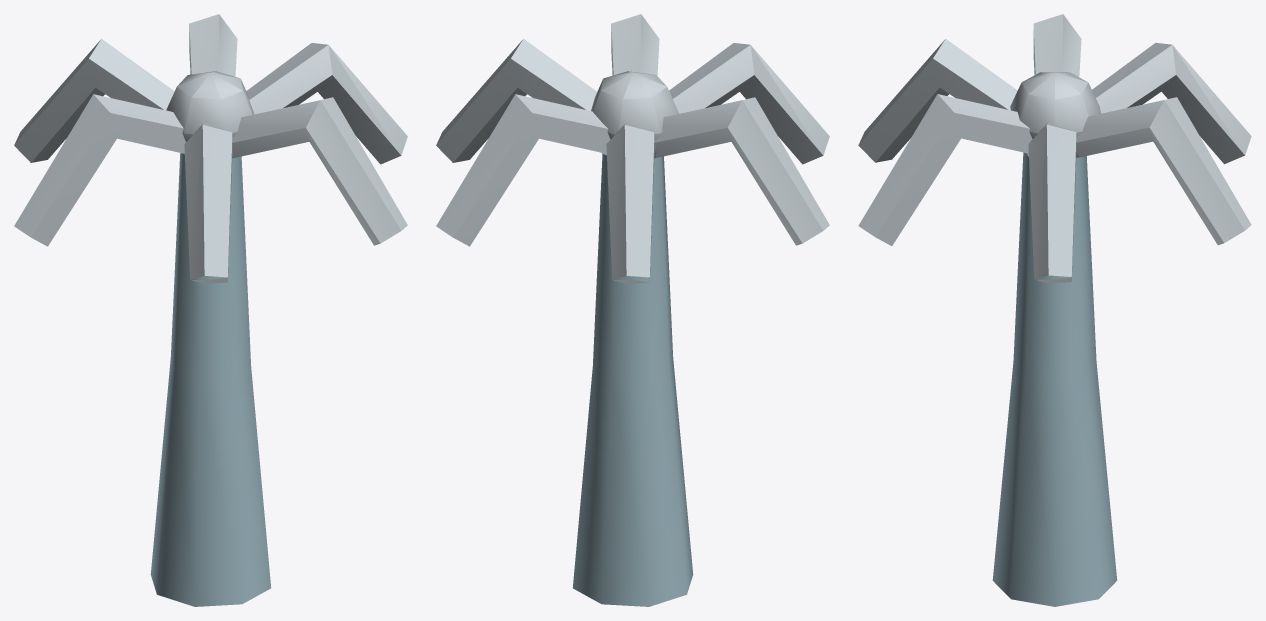
Rendered from water_jet.gltf.
3 renders of one model, left to right at view 1: azimuth 30°, elevation 25°; view 2: azimuth 150°, elevation 25°; view 3: azimuth 270°, elevation 25°, orthographic.
Visible parts, largest first — view 1: water_jet; view 2: water_jet; view 3: water_jet.
Boxes of the visible parts, x1,y1,x2,y2 form: water_jet: [14, 14, 407, 606]; water_jet: [436, 14, 829, 606]; water_jet: [858, 14, 1251, 606].
Size of the model in its own units: 0.6457 by 0.8153 by 0.5684.
